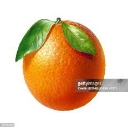orange: (21, 17, 107, 111)
